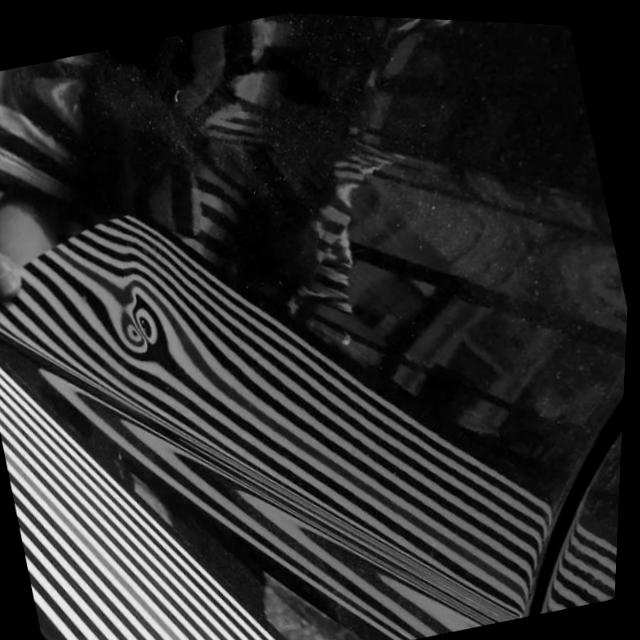PDR-Dent: (97, 245, 184, 373)
